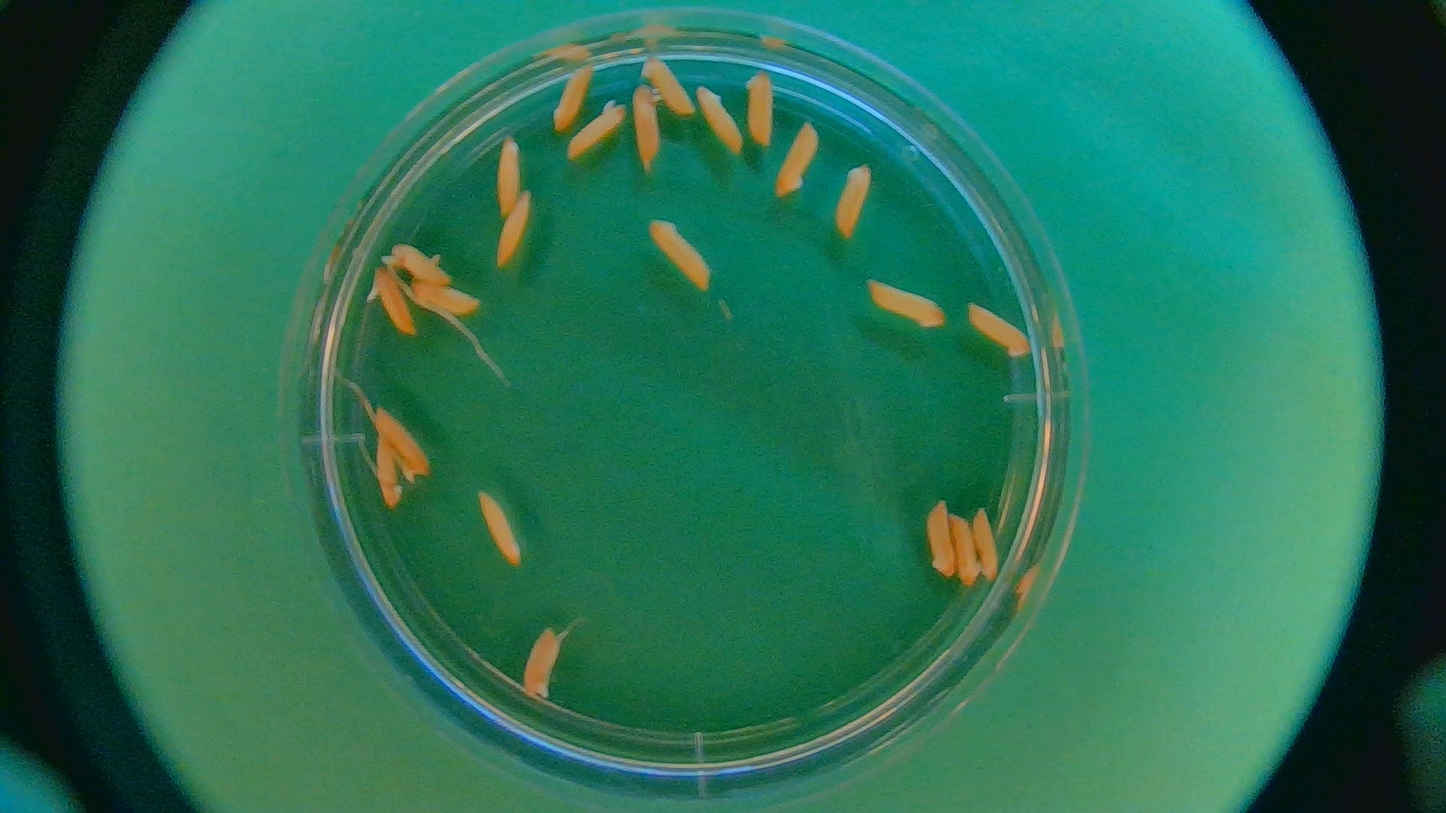no: (648, 220, 715, 289), (867, 279, 947, 330), (474, 488, 523, 565), (966, 300, 1030, 356), (694, 84, 744, 151), (630, 83, 668, 164), (554, 66, 599, 134), (777, 122, 819, 194), (493, 188, 531, 265), (522, 626, 563, 697), (643, 57, 693, 112), (837, 165, 874, 236), (949, 513, 984, 585), (926, 501, 959, 577), (972, 506, 1004, 579), (372, 442, 406, 507), (413, 283, 477, 317), (745, 72, 773, 148), (499, 132, 520, 214)
yes: (369, 406, 428, 480), (566, 98, 627, 160), (382, 245, 458, 287), (370, 269, 418, 334)
